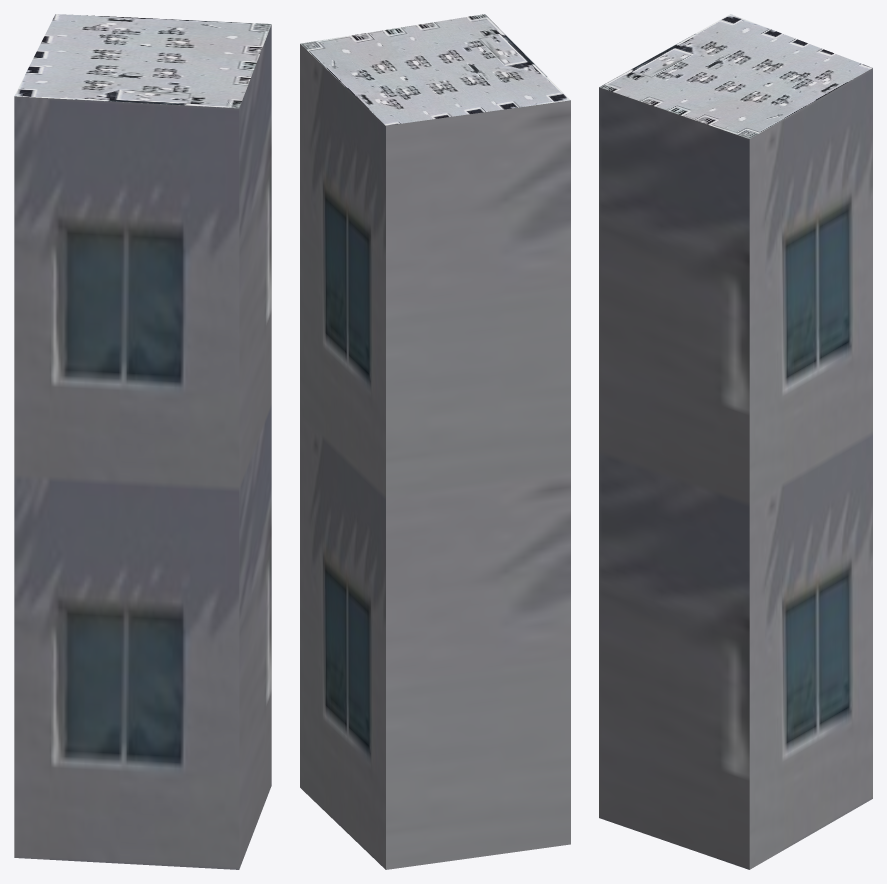
The model's file is ResTex__4995.fbx.
3 renders of one model, left to right at view 1: azimuth 30°, elevation 25°; view 2: azimuth 150°, elevation 25°; view 3: azimuth 270°, elevation 25°, orthographic. The views are drawn at different scales.
Visible parts, largest first — view 1: CityEngineMaterial_10_m, CityEngineMaterial_m; view 2: CityEngineMaterial_10_m, CityEngineMaterial_m; view 3: CityEngineMaterial_10_m, CityEngineMaterial_m.
Boxes of the visible parts, <box> form: CityEngineMaterial_10_m: <box>14,25,271,869</box>; CityEngineMaterial_m: <box>14,14,271,108</box>; CityEngineMaterial_10_m: <box>300,44,570,869</box>; CityEngineMaterial_m: <box>300,14,570,125</box>; CityEngineMaterial_10_m: <box>599,68,872,869</box>; CityEngineMaterial_m: <box>599,14,872,138</box>.
Bounding box in the file's own units: 2.2 × 6 × 2.04.
2 materials, 2 textured.
